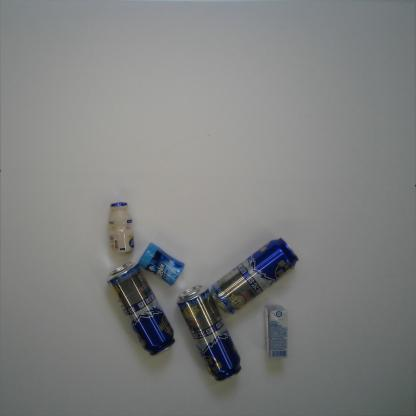Alcohol: (209, 236, 300, 316), (104, 260, 176, 358), (177, 284, 242, 382)
Gum: (138, 241, 185, 287)
Milk: (263, 303, 289, 360), (108, 201, 133, 254)
